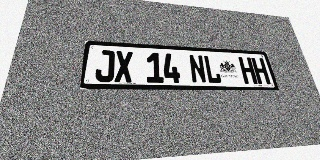1: (146, 52, 164, 83)
4: (162, 53, 181, 83)
H: (238, 57, 258, 84), (251, 58, 271, 84)
J: (95, 50, 115, 82)
L: (203, 55, 222, 84)
N: (188, 54, 207, 83)
X: (114, 51, 133, 82)
